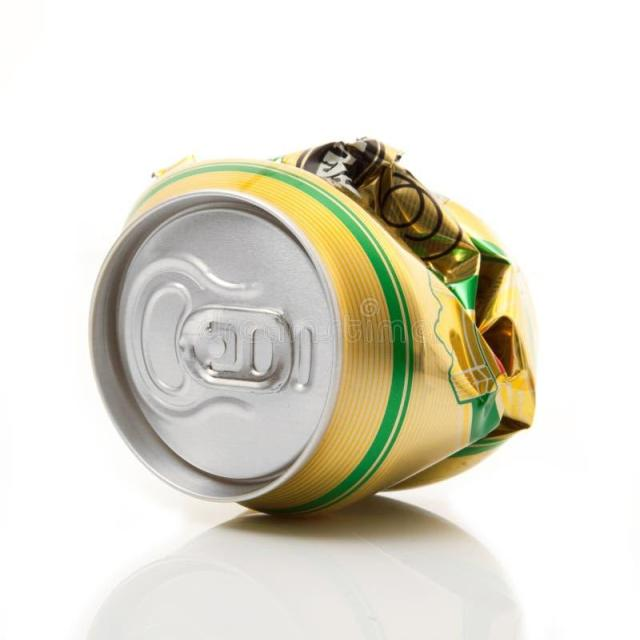can: (86, 135, 537, 518)
pop tab: (180, 306, 296, 393)
